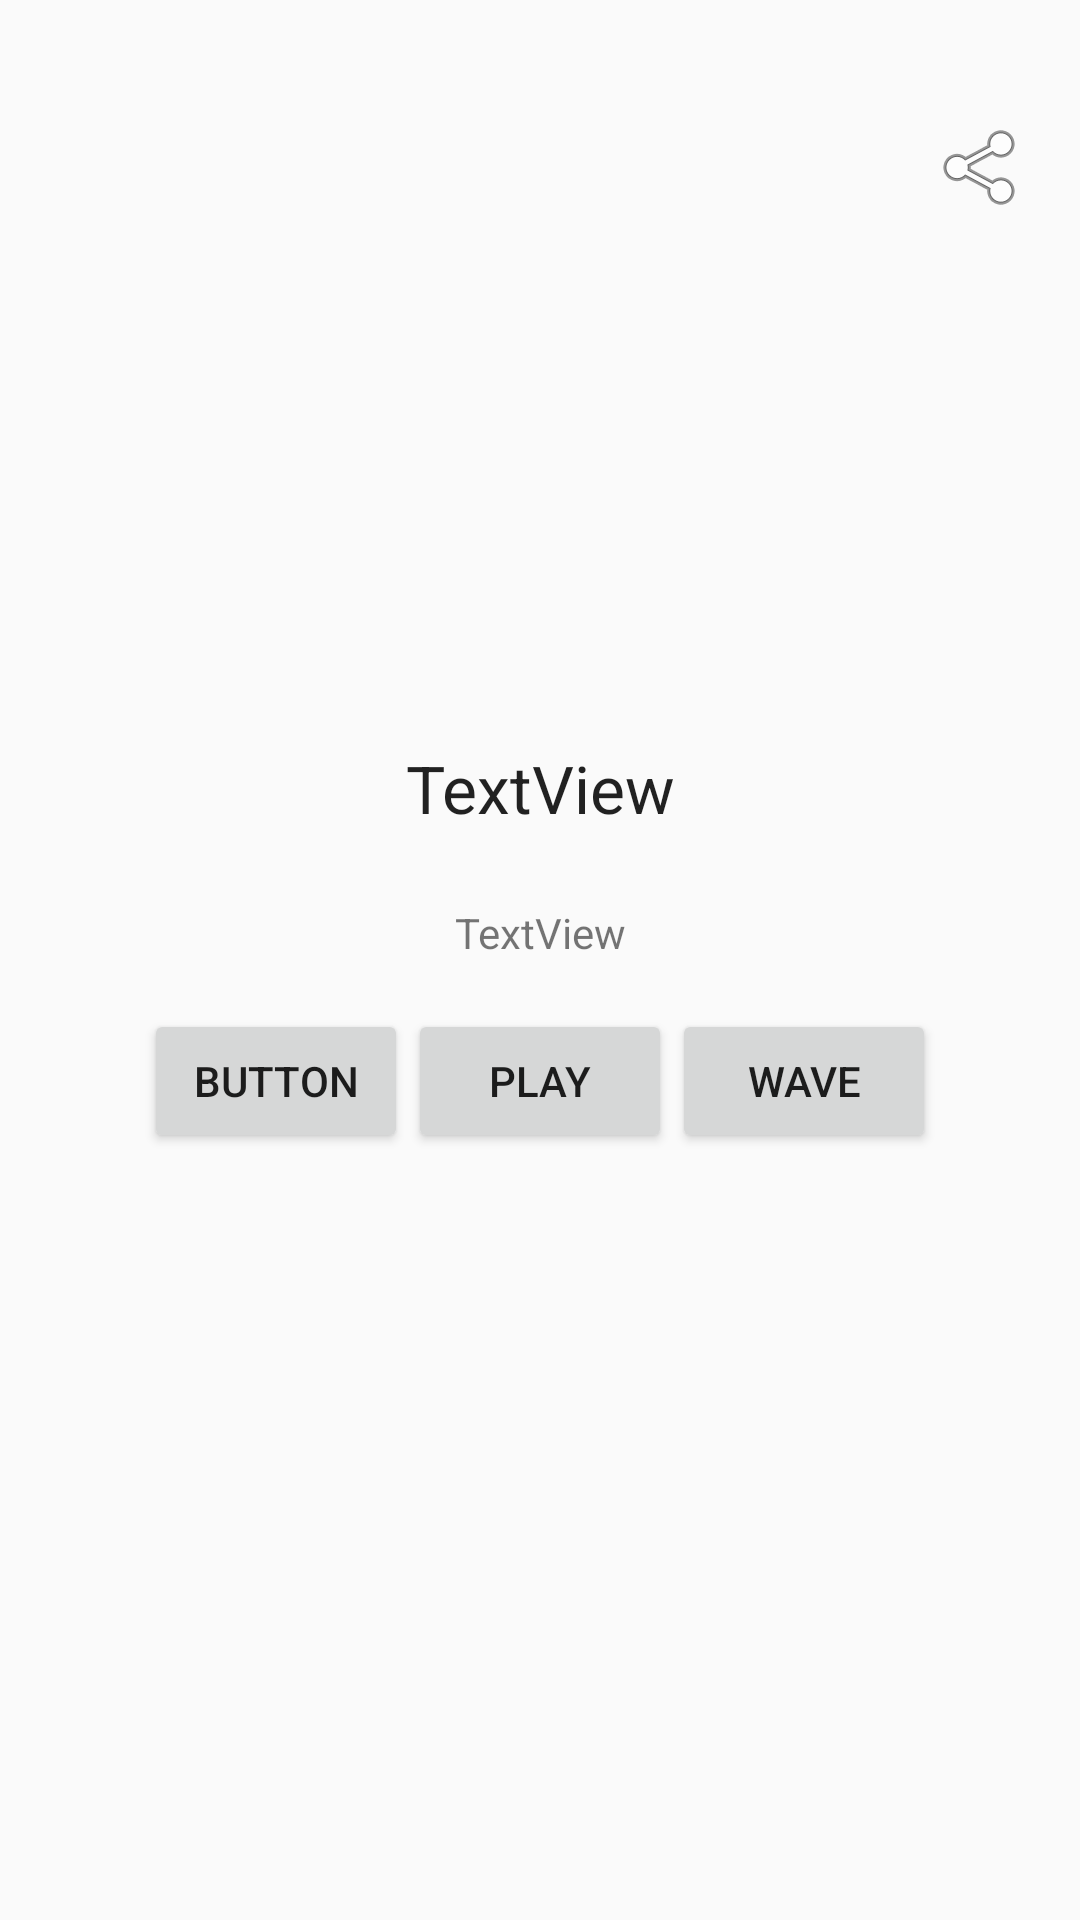

Icon click points for this 1080w x 1920h phone screenshot, format [x,y]:
share: [979,167]
